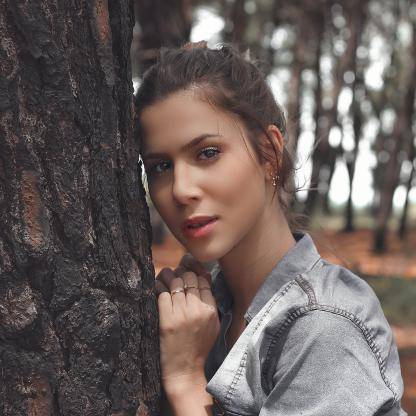Eye: (193, 145, 223, 167), (150, 160, 173, 181)
Mouth: (178, 213, 220, 239)
Nose: (172, 163, 204, 208)
